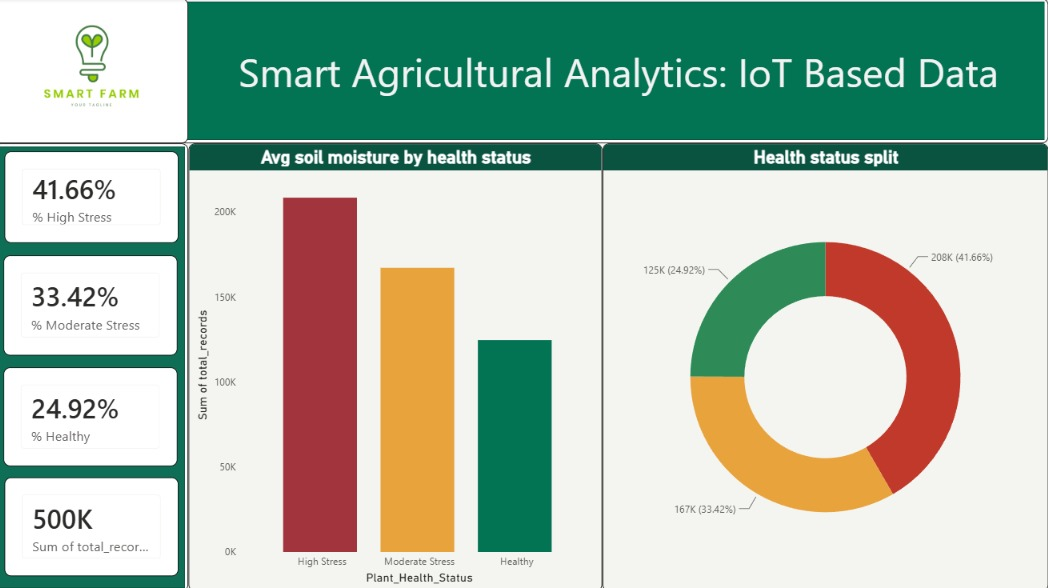

What the dashboard file says about the page in this screenshot:
{"tool":"powerbi","page":{"name":"Overview","canvas":[1280,720],"ordinal":0},"visuals":[{"type":"shape","box":[0,0,1279.7,175.9],"z":0},{"type":"image","box":[0,0,235.4,175.9],"z":1000},{"type":"shape","box":[0,175.9,235.4,544.3],"z":1500},{"type":"cardVisual","fields":{"Data":["Sum(Dim_HealthStatus.total_records)"]},"box":[12.7,582.3,211.4,120.3],"z":2000},{"type":"cardVisual","fields":{"Data":["_Measures.% High Stress"]},"box":[12.7,186.1,211.4,111.4],"z":3000},{"type":"cardVisual","fields":{"Data":["_Measures.% Healthy"]},"box":[11.4,448.1,211.4,120.3],"z":4000},{"type":"donutChart","title":"Health status split","fields":{"Category":["Dim_HealthStatus.Plant_Health_Status"],"Y":["Sum(Dim_HealthStatus.total_records)"]},"box":[738,175.9,541.8,544.3],"z":5000},{"type":"columnChart","title":"Avg soil moisture by health status","fields":{"Y":["Sum(Dim_HealthStatus.total_records)"],"Category":["Dim_HealthStatus.Plant_Health_Status"]},"box":[235.4,175.9,502.5,544.3],"z":6000},{"type":"cardVisual","fields":{"Data":["_Measures.% Moderate Stress"]},"box":[11.4,312.7,211.4,121.5],"z":7000},{"type":"textbox","box":[274.7,50.6,967.1,75.9],"z":8000}]}

Visuals, with their boxes in screenshot pixels (x1, y1, x2, y2), scaled from the page's 1280x720 canvas onto the 1048x588 screenshot:
shape: 0,0,1047,144
image: 0,0,193,144
shape: 0,144,193,587
cardVisual - Sum(Dim_HealthStatus.total_records): 10,476,183,574
cardVisual - _Measures.% High Stress: 10,152,183,243
cardVisual - _Measures.% Healthy: 9,366,182,464
"Health status split" donutChart: 604,144,1047,587
"Avg soil moisture by health status" columnChart: 193,144,604,587
cardVisual - _Measures.% Moderate Stress: 9,255,182,355
textbox: 225,41,1017,103
